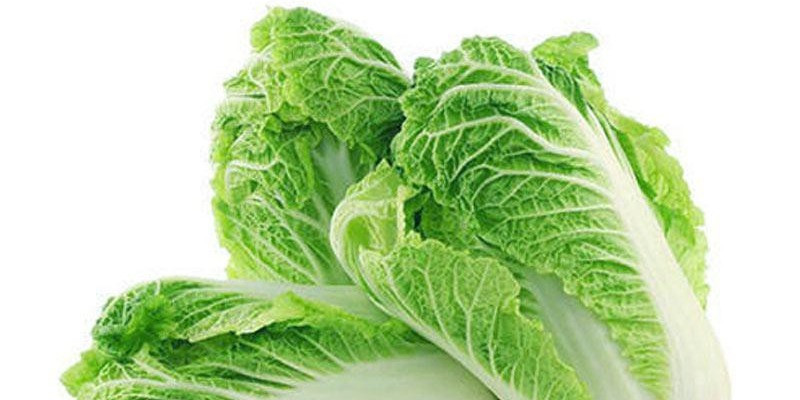Sawi: (133, 8, 754, 396)
